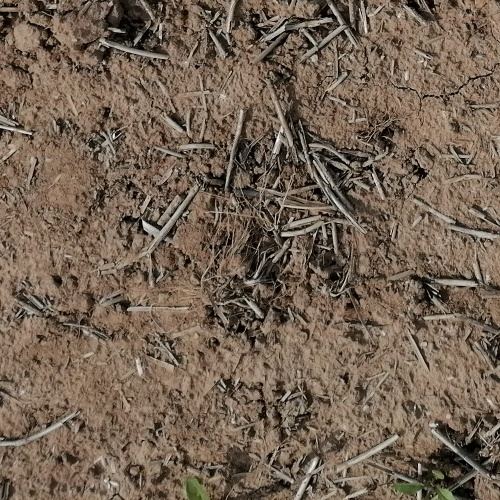beet: (390, 479, 456, 500), (183, 478, 209, 500)
